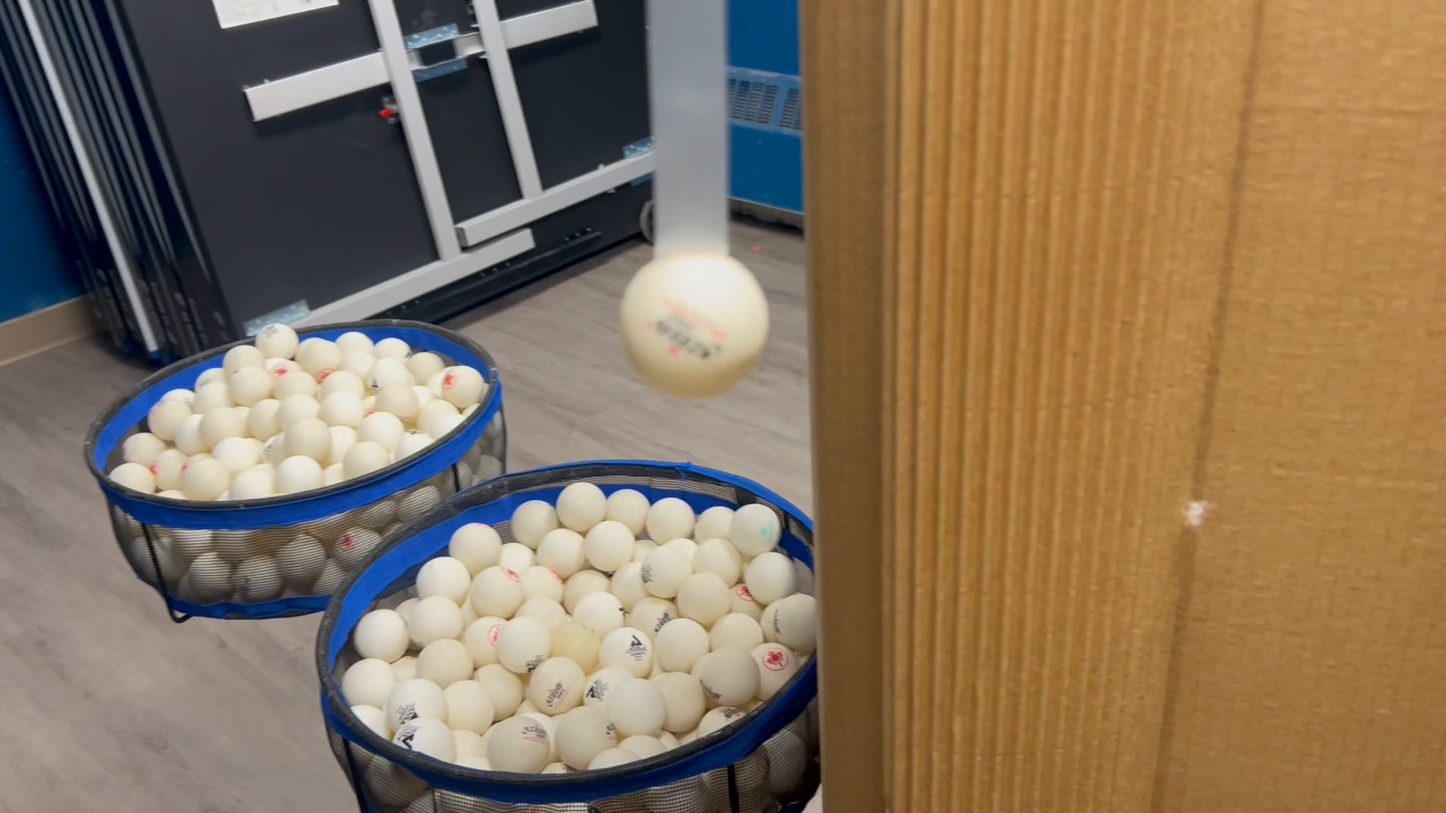Ball: (612, 247, 777, 387)
